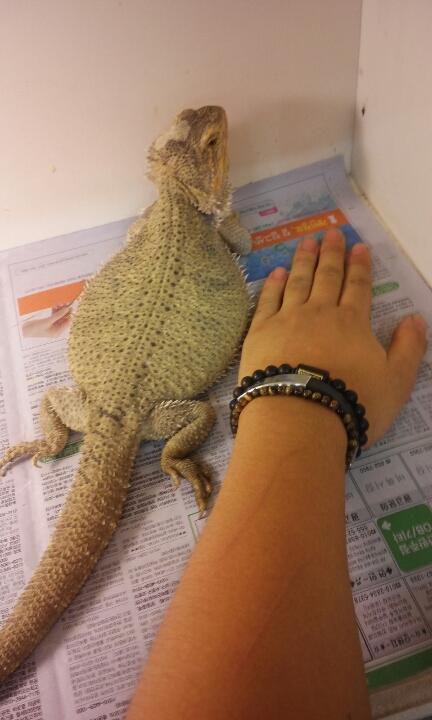bearded: (1, 103, 259, 692)
